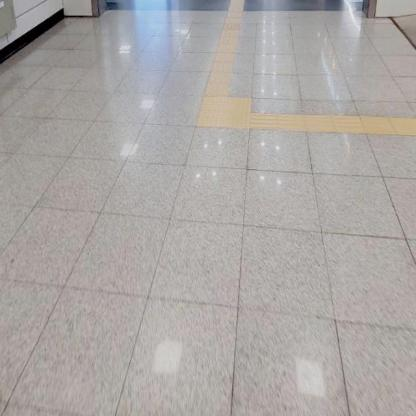podotacti: (181, 71, 270, 159), (250, 110, 416, 140), (203, 0, 243, 94)
